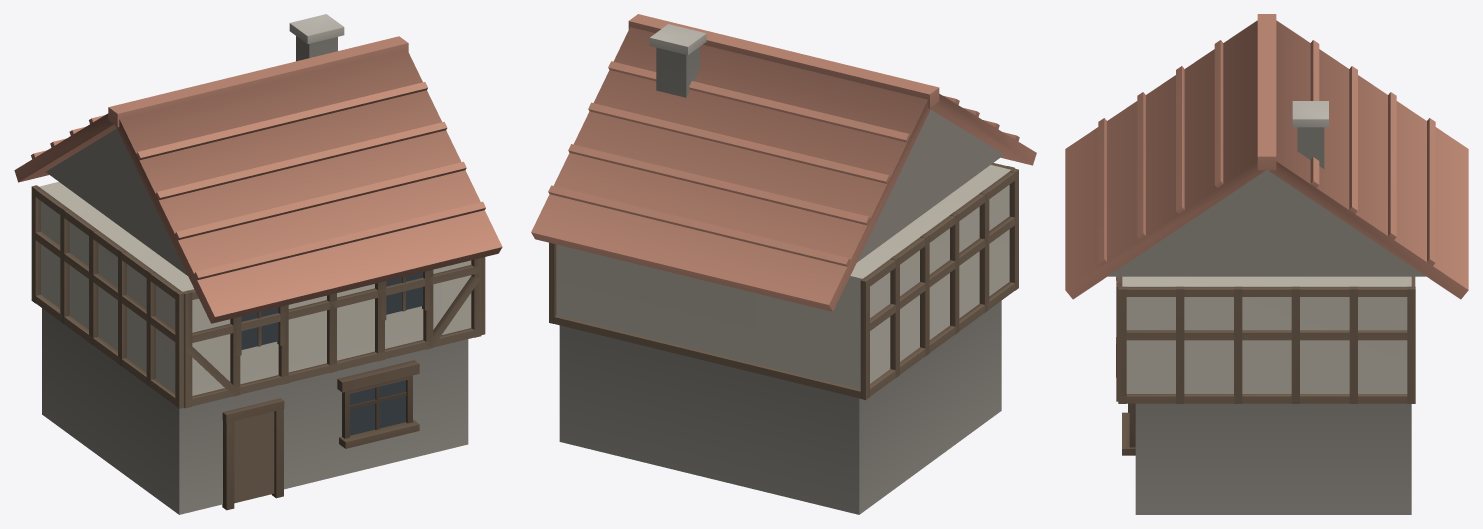
File: house_medieval_1.glb
3 renders of one model, left to right at view 1: azimuth 30°, elevation 25°; view 2: azimuth 150°, elevation 25°; view 3: azimuth 270°, elevation 25°, orthographic. The views are drawn at different scales.
Visible parts, largest first — view 1: Body_Roof, Body_Detail, Body_Wall; view 2: Body_Roof, Body_Detail, Body_Wall; view 3: Body_Roof, Body_Detail, Body_Wall.
Part boxes in pixels (box(x1,y1,x2,y2)): Body_Roof: box(14, 36, 502, 323); Body_Detail: box(31, 14, 485, 514); Body_Wall: box(39, 128, 471, 395); Body_Roof: box(531, 14, 1036, 311); Body_Detail: box(549, 24, 1018, 514); Body_Wall: box(556, 110, 1011, 389); Body_Roof: box(1065, 14, 1468, 299); Body_Detail: box(1116, 101, 1415, 514); Body_Wall: box(1108, 170, 1425, 393).
Size of the model in its own units: 0.952 by 1.11 by 1.08.
